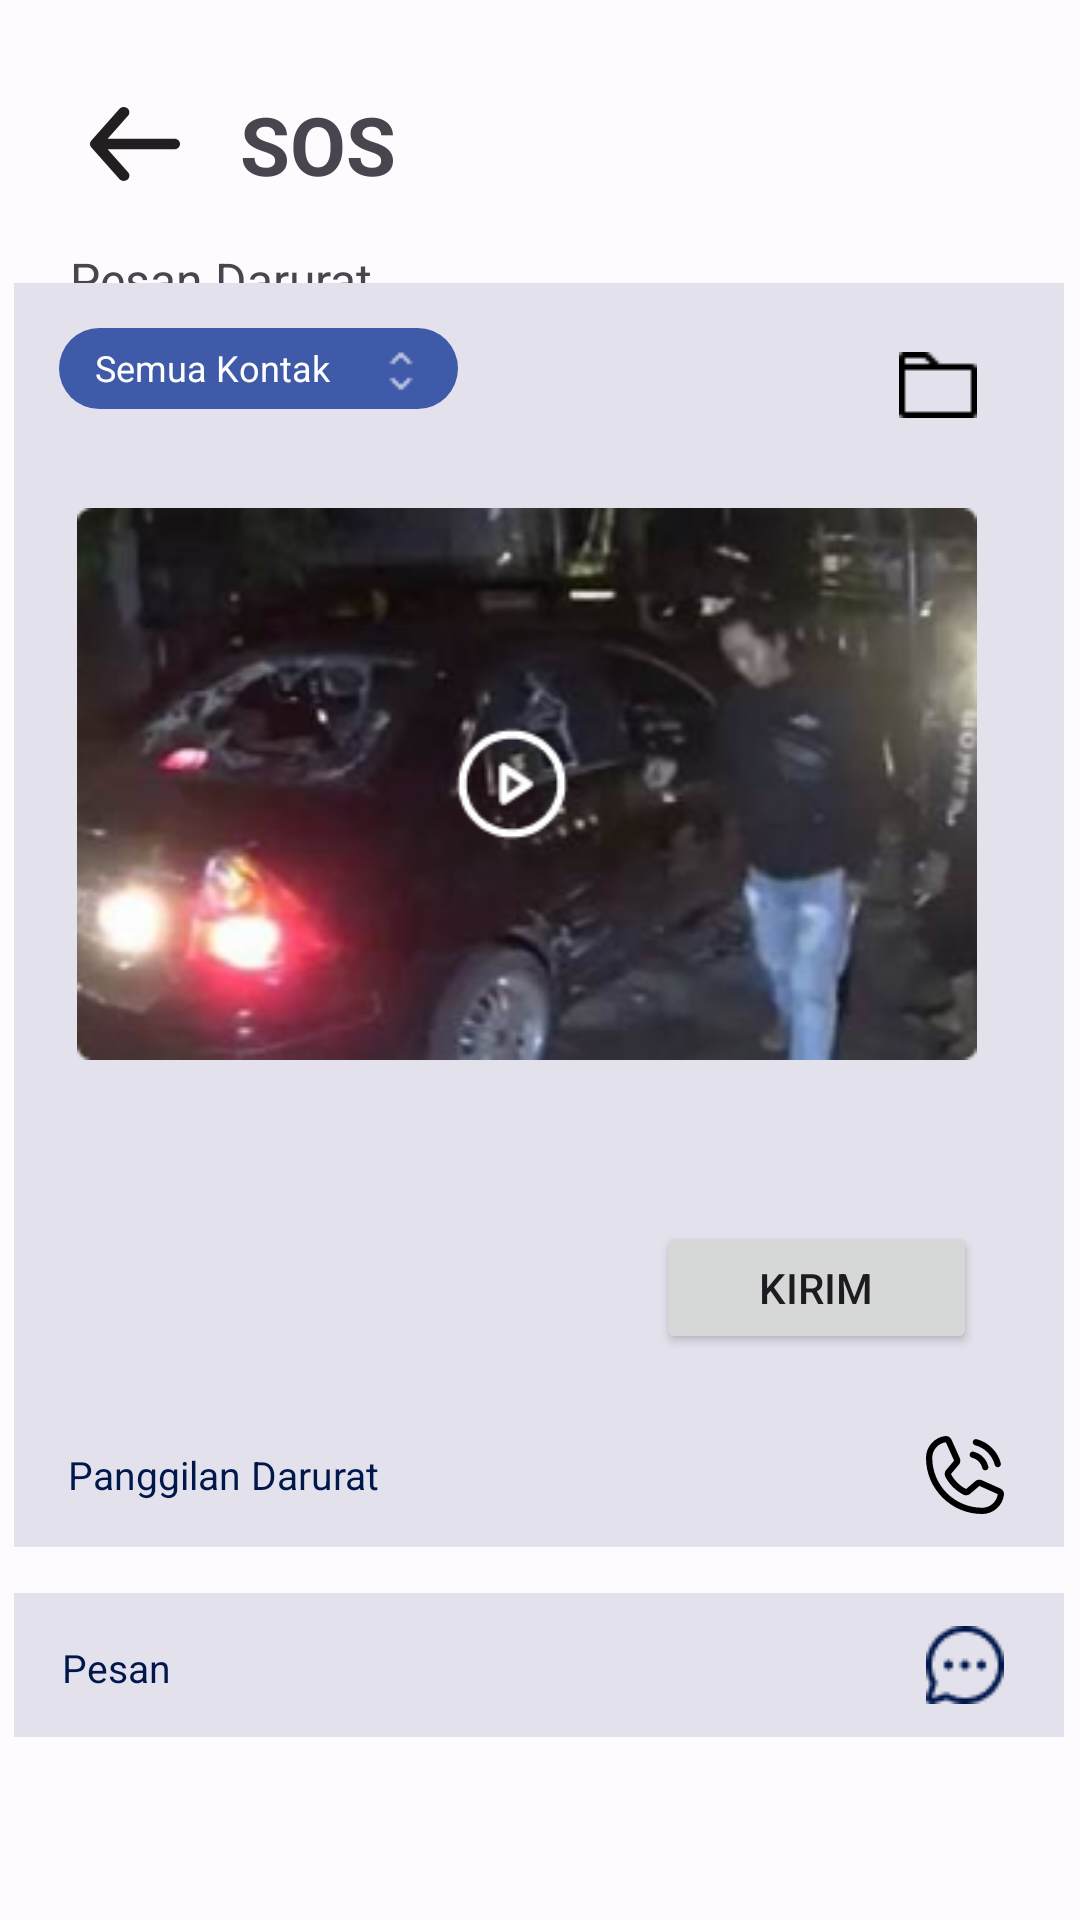

Named icons in this screenshot (1080 × 1920) and their bounding boxes, region(x1, y1, x2, y2):
back: region(90, 107, 180, 181)
caretupdown: region(389, 352, 413, 390)
icongaleri: region(899, 352, 977, 418)
iconpesan: region(926, 1626, 1004, 1704)
iconvideo: region(451, 718, 578, 847)
telepon: region(926, 1436, 1004, 1514)
